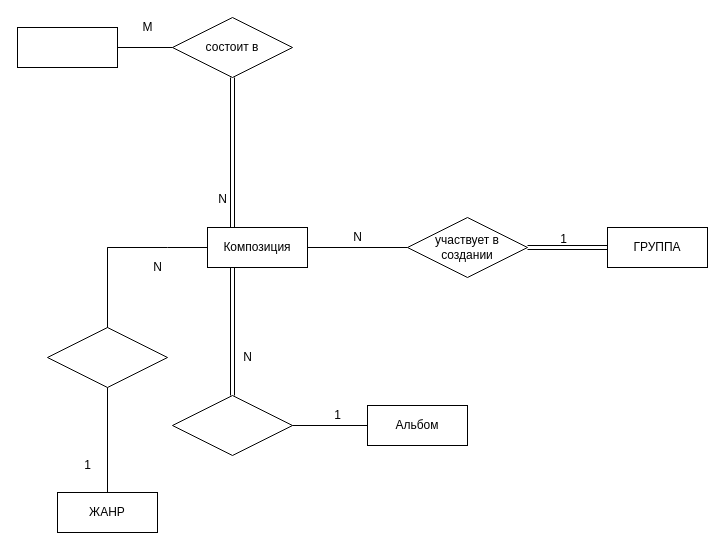
The diagram is 725 pixels wide and 550 high, and some of its shapes have lost their labels. Each missing label, with the box of its shape:
входит в: (172, 394, 292, 456)
Плейлист: (16, 26, 118, 68)
является: (46, 326, 168, 388)
